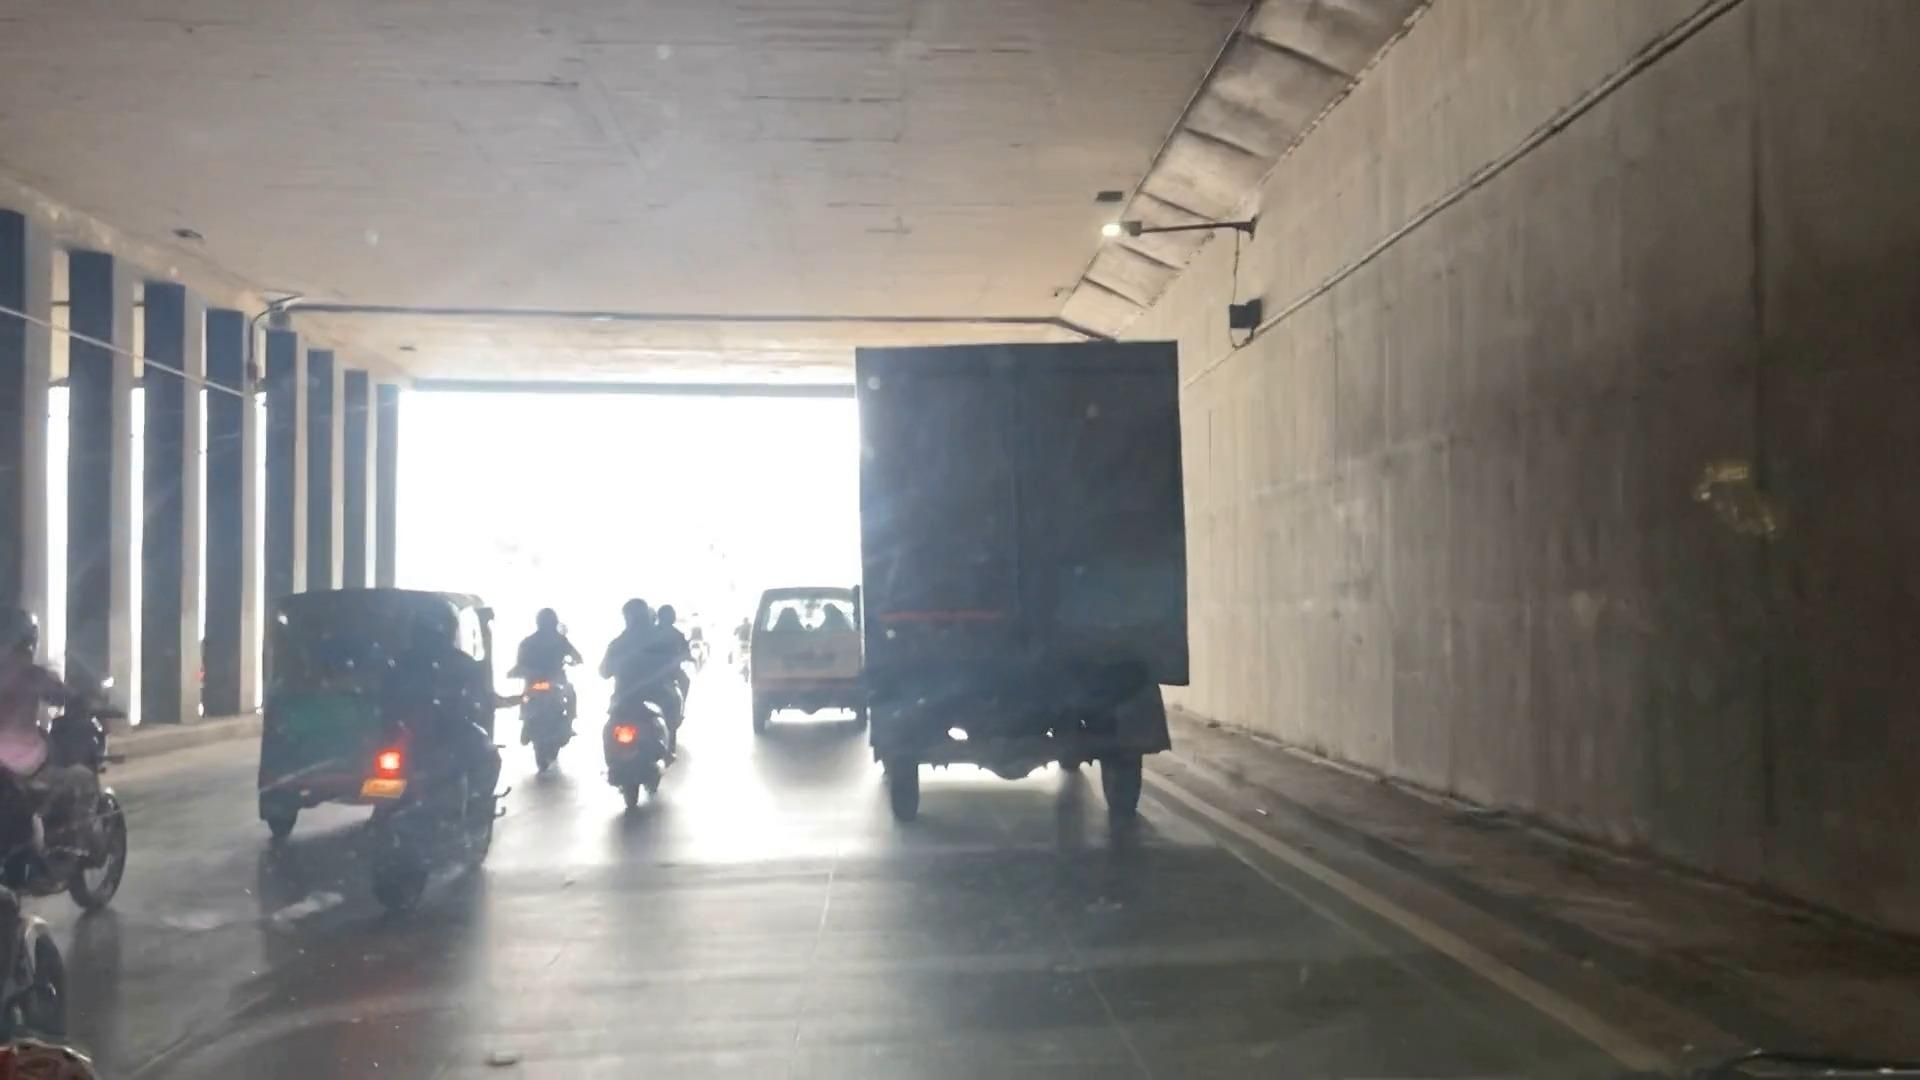HMV: (864, 349, 1188, 794)
LMV: (356, 604, 527, 862), (589, 580, 707, 803), (733, 583, 865, 702), (518, 583, 574, 778)
